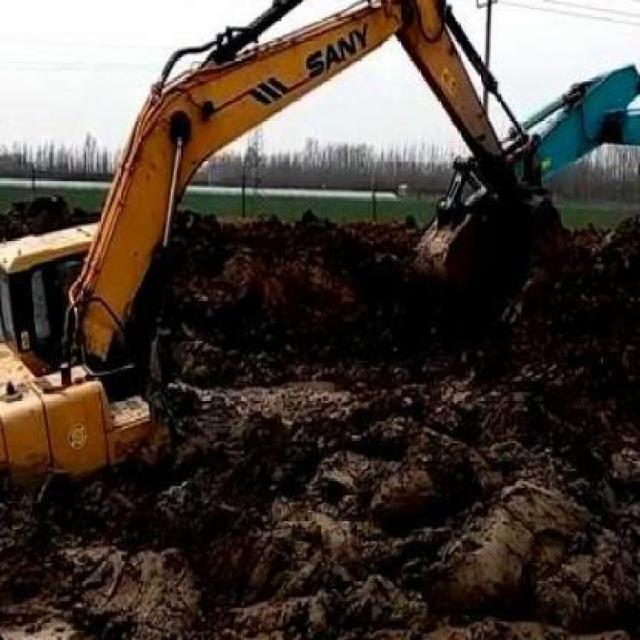Excavator: (0, 0, 538, 512)
